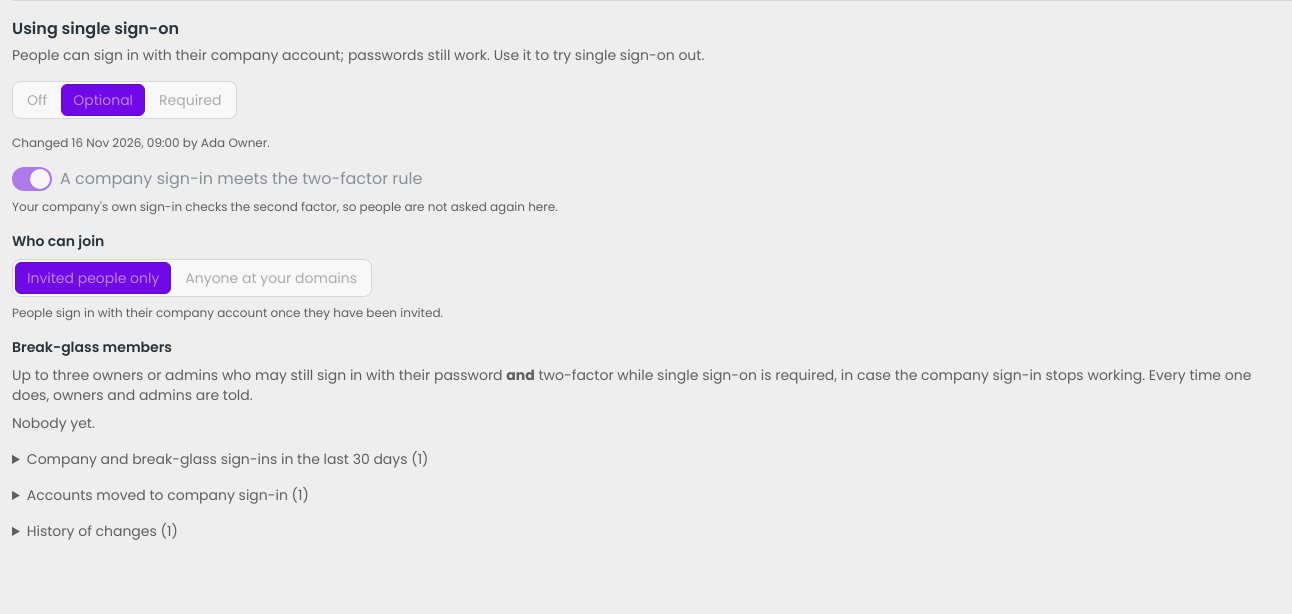
Test: Settings → Security → Single sign-on: using it › shows recent sign-ins and the history, and is read-only without the permission
This screenshot has width=1292, height=614.
Check: the radio button labelled "Off" is disabled, box top-left (15, 84), bottom-right (59, 116)
Check: the switch is disabled, box top-left (12, 167), bottom-right (422, 191)
Click the heading "Company and break-glass sign-ins in the last 30 days (1)" at (228, 459), box top-left (27, 449), bottom-right (428, 469)
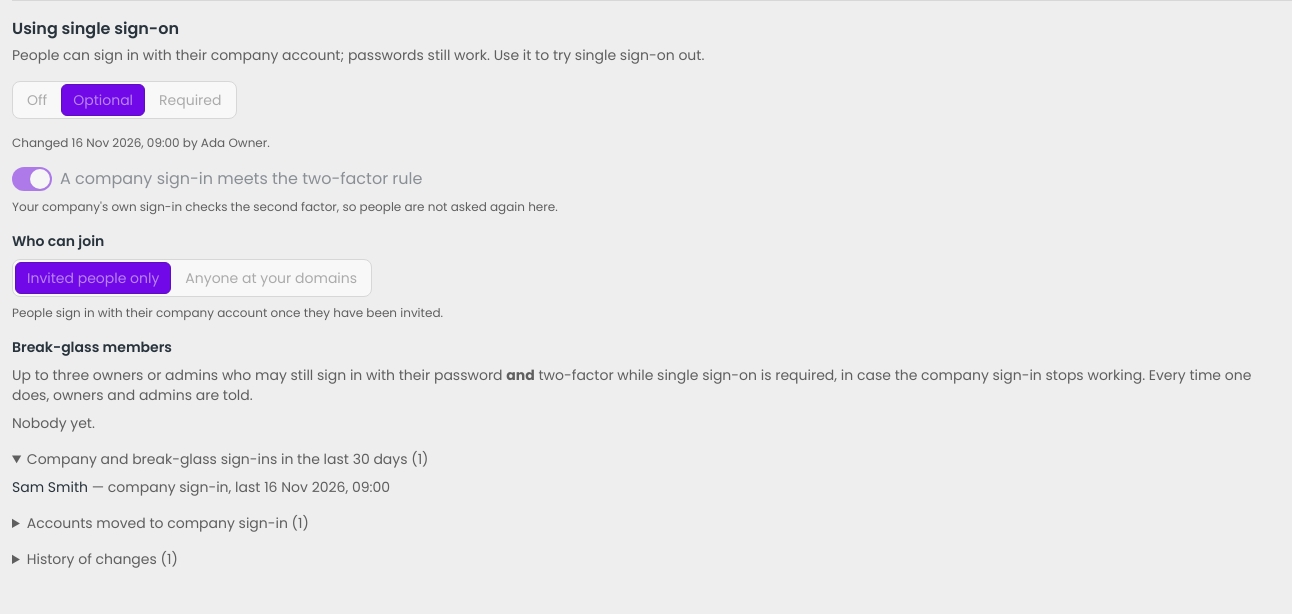
Check: the list named "Recent sign-ins" shows "Sam Smith — company sign-in", box top-left (12, 477), bottom-right (390, 497)
Click the heading "History of changes (1)" at (102, 559), box top-left (27, 549), bottom-right (178, 569)
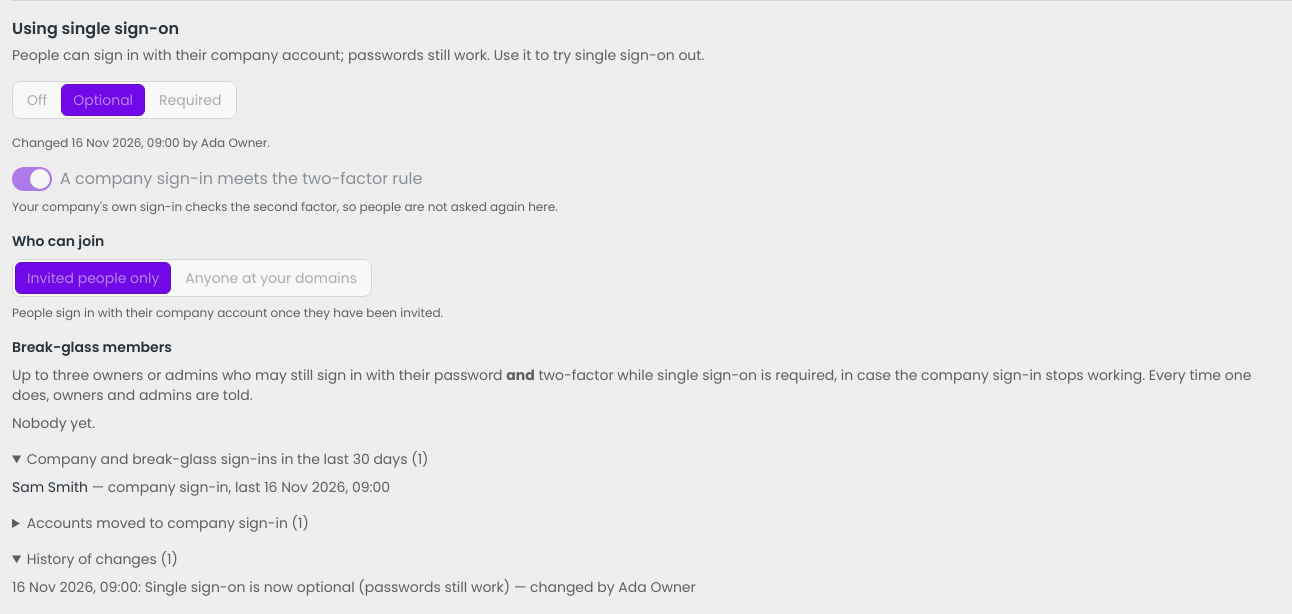
Check: the list named "Single sign-on changes" shows "now optional", box top-left (145, 577), bottom-right (696, 597)
